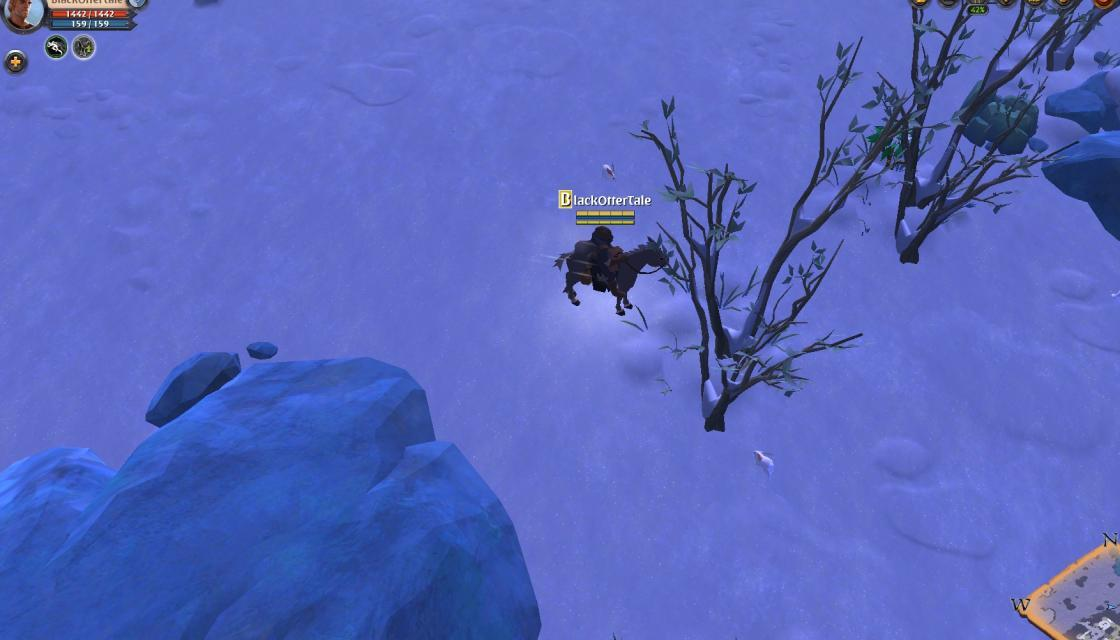sandstone: (958, 78, 1042, 158)
